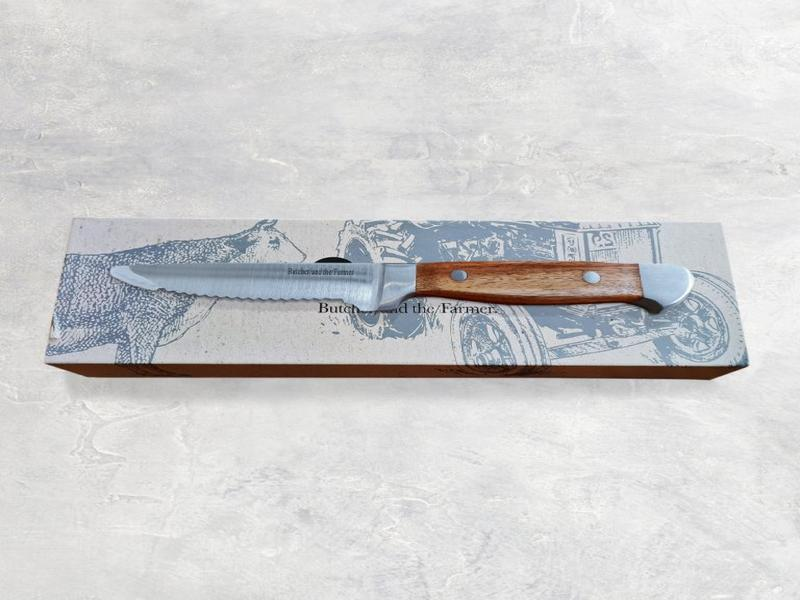KNIFE: (103, 254, 705, 322)
